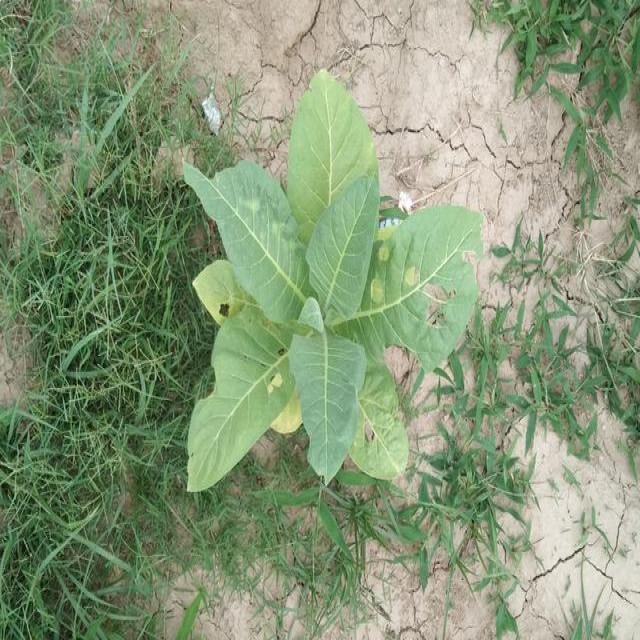crop: (168, 64, 490, 501)
